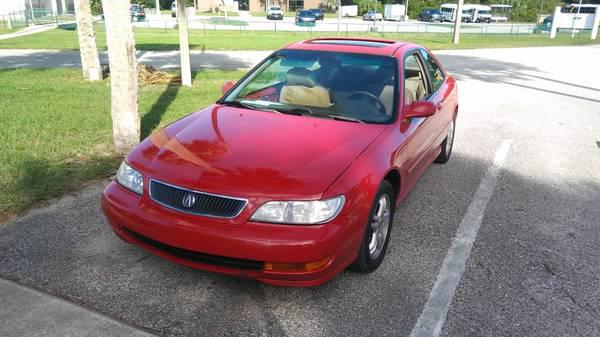acura: (100, 20, 467, 299)
